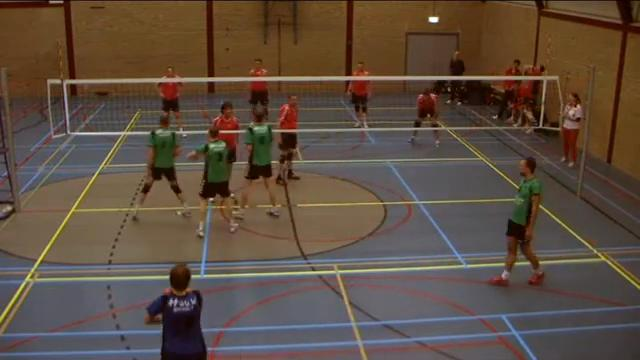Player: (490, 157, 543, 285), (132, 116, 190, 220), (145, 264, 206, 359), (187, 127, 238, 237), (237, 109, 280, 218), (212, 101, 239, 180), (276, 95, 299, 183), (409, 87, 438, 143), (157, 82, 182, 131), (347, 80, 370, 127), (249, 80, 268, 116)
